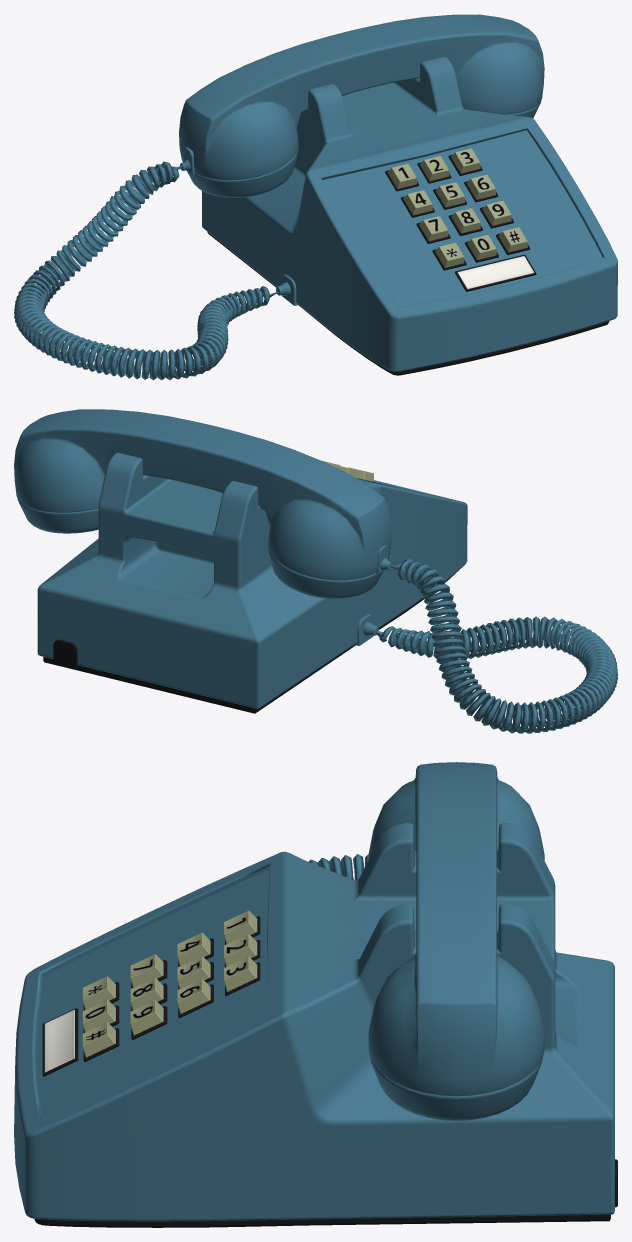
The model's file is phone-transformed.glb.
3 renders of one model, top to bottom at view 1: azimuth 30°, elevation 25°; view 2: azimuth 150°, elevation 25°; view 3: azimuth 270°, elevation 25°, orthographic. The views are drawn at different scales.
Parts seen in each view (by area): view 1: Cube, Cube.001, BezierCircle, Cube.011, Cube.010, Cube.017, Cube.007, Cube.008, Cube.016, Cube.015, Cube.003, Cube.004 (+4 smaller); view 2: Cube, Cube.001, BezierCircle, Cube.014, Cube.012; view 3: Cube, Cube.001, Cube.011, Cube.008, Cube.005, Cube.015, Cube.002, BezierCircle, Cube.010, Cube.007, Cube.017, Cube.004 (+4 smaller).
Part boxes in pixels (box(x1,y1,x2,y2)): Cube: box(202, 56, 617, 375); Cube.001: box(179, 14, 544, 197); BezierCircle: box(14, 161, 278, 380); Cube.011: box(455, 254, 536, 291); Cube.010: box(432, 242, 466, 270); Cube.017: box(385, 164, 419, 191); Cube.007: box(416, 216, 450, 243); Cube.008: box(496, 227, 530, 254); Cube.016: box(417, 156, 451, 183); Cube.015: box(448, 148, 482, 175); Cube.003: box(433, 182, 467, 209); Cube.004: box(400, 190, 434, 217); Cube: box(37, 452, 467, 713); Cube.001: box(14, 409, 391, 598); BezierCircle: box(376, 558, 617, 733); Cube.014: box(53, 639, 78, 668); Cube.012: box(354, 614, 378, 645); Cube: box(14, 823, 614, 1227); Cube.001: box(368, 762, 544, 1120); Cube.011: box(42, 1008, 78, 1076); Cube.008: box(82, 1022, 119, 1061); Cube.005: box(130, 1000, 167, 1040); Cube.015: box(223, 956, 260, 995); Cube.002: box(177, 978, 213, 1018); BezierCircle: box(308, 854, 368, 880); Cube.010: box(82, 976, 119, 1010); Cube.007: box(130, 954, 167, 988); Cube.017: box(223, 910, 260, 944); Cube.004: box(177, 932, 213, 966).
Bounding box in the file's own units: 42.49 × 15.93 × 28.14.
Materials: 4 (1 with a texture image).
